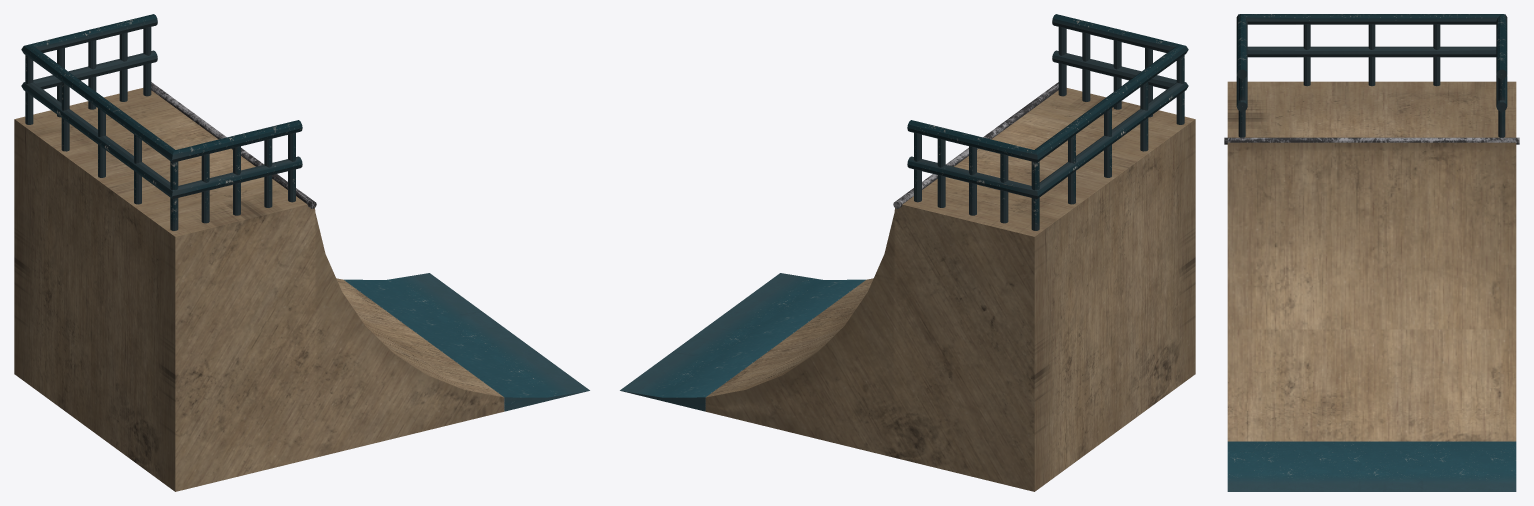
File: QuaterPipe.fbx
3 renders of one model, left to right at view 1: azimuth 30°, elevation 25°; view 2: azimuth 150°, elevation 25°; view 3: azimuth 270°, elevation 25°, orthographic. The views are drawn at different scales.
Visible parts, largest first — view 1: Q_Pipe; view 2: Q_Pipe; view 3: Q_Pipe.
Boxes of the visible parts, bbox=[...] form: Q_Pipe: bbox=[14, 14, 589, 491]; Q_Pipe: bbox=[620, 14, 1195, 491]; Q_Pipe: bbox=[1224, 14, 1519, 491].
Bounding box in the file's own units: 433 × 332 × 298.
